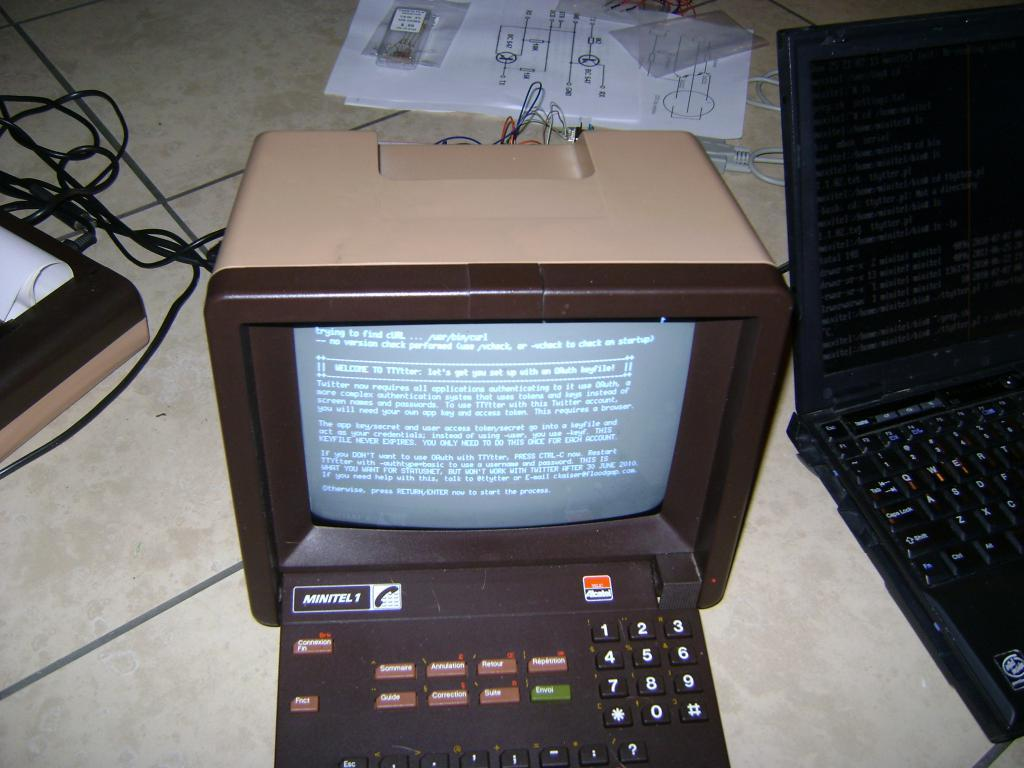Computer-keyboard: (271, 614, 723, 767), (817, 372, 1022, 593)
